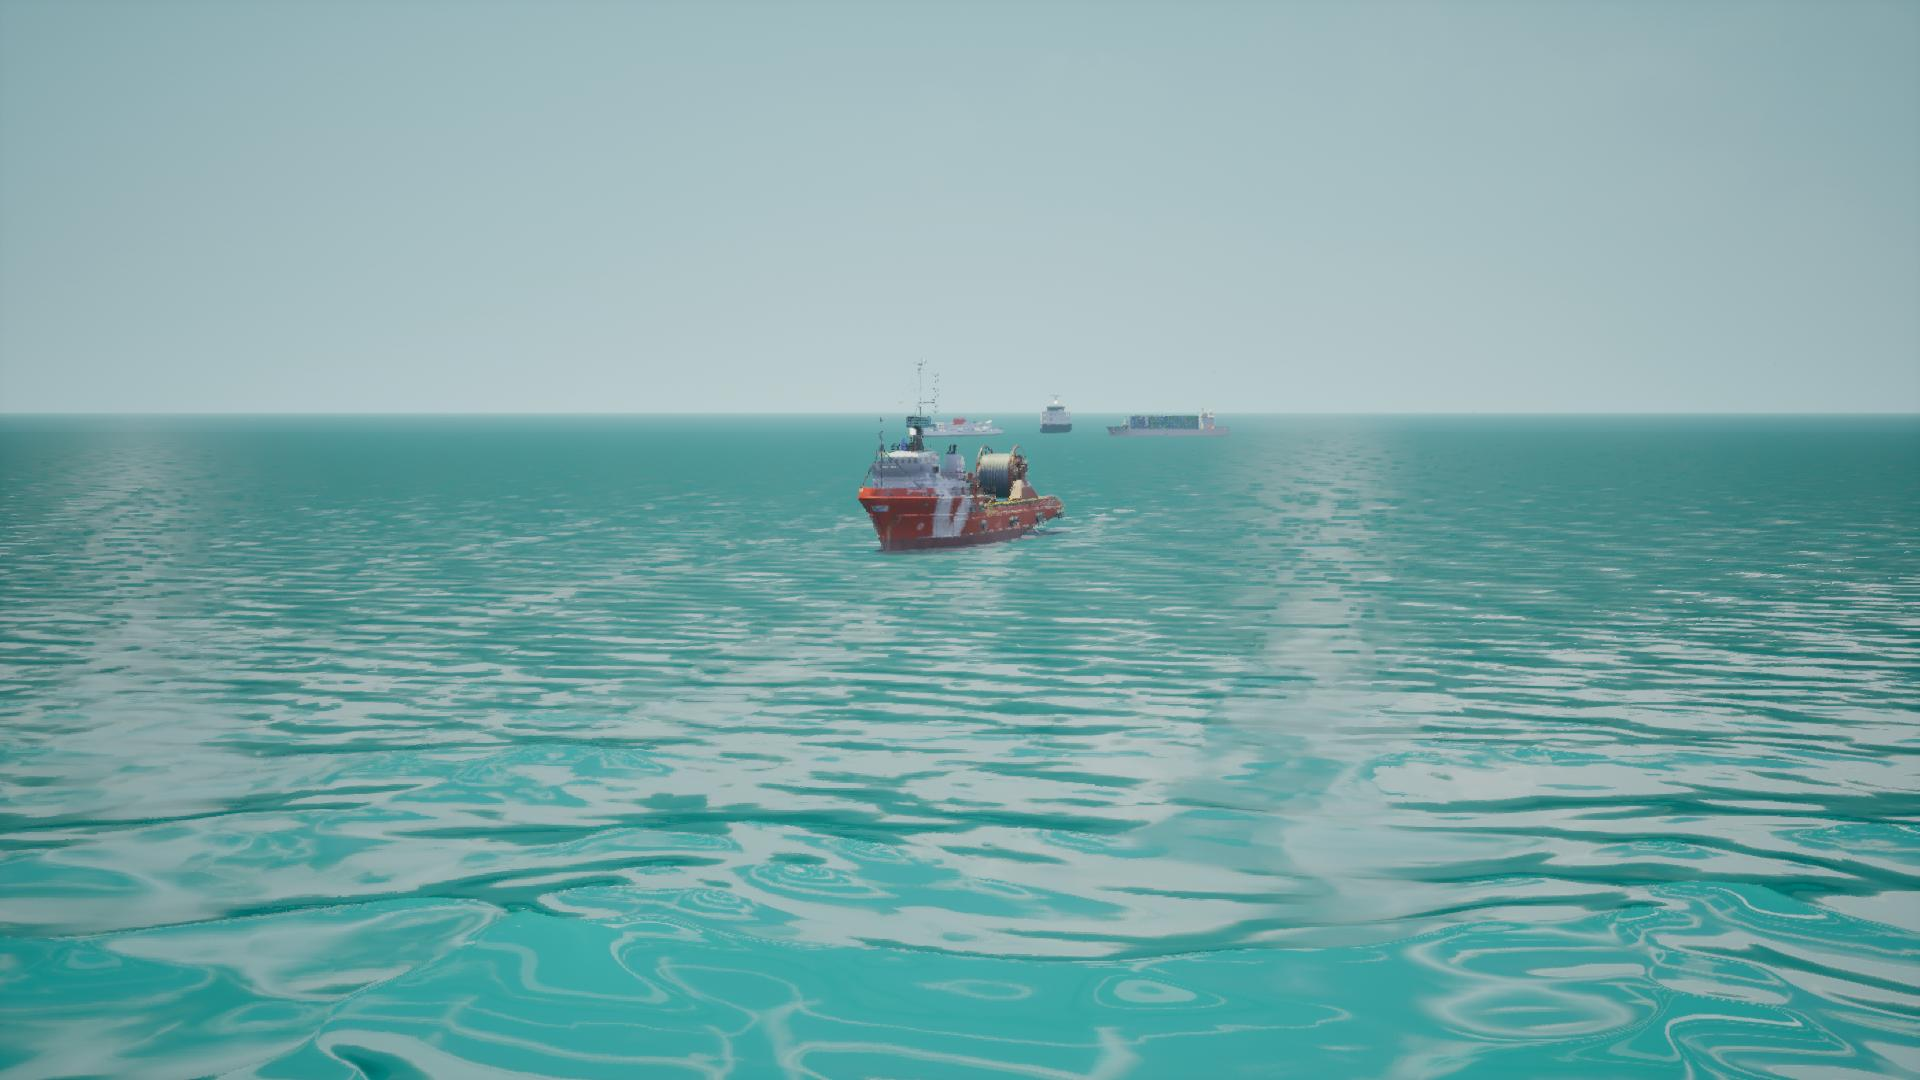Tug Boat: (856, 363, 1058, 551)
